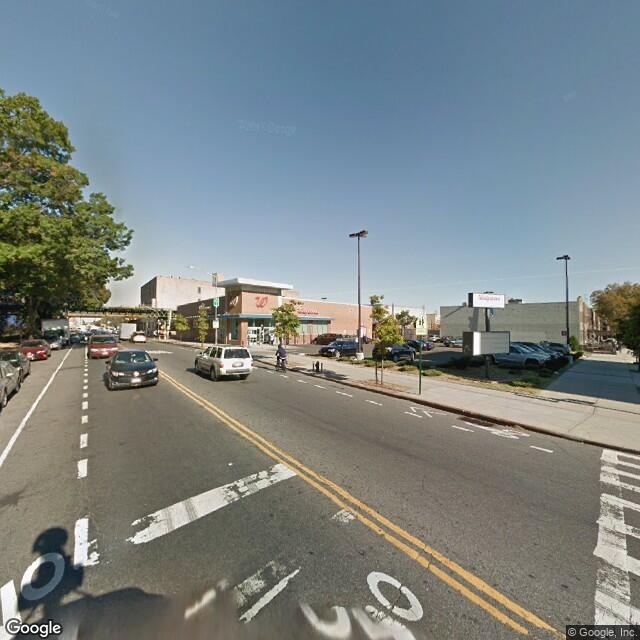litter: (227, 462, 232, 466)
